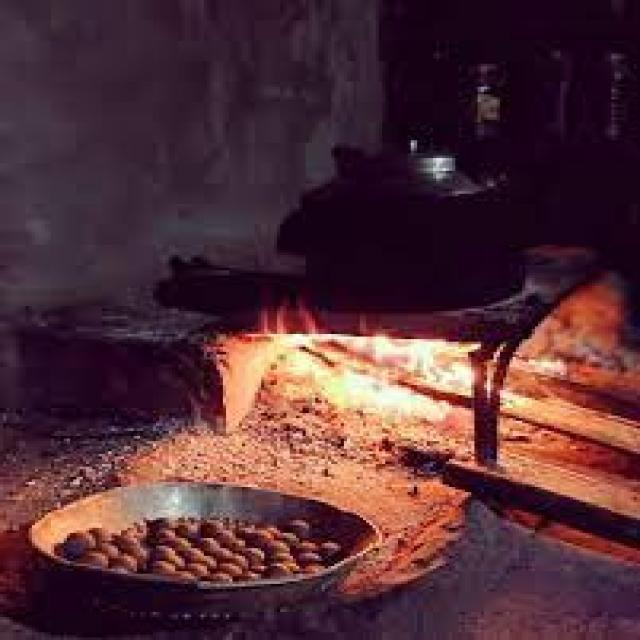fire: (265, 334, 473, 423), (256, 300, 319, 334)
